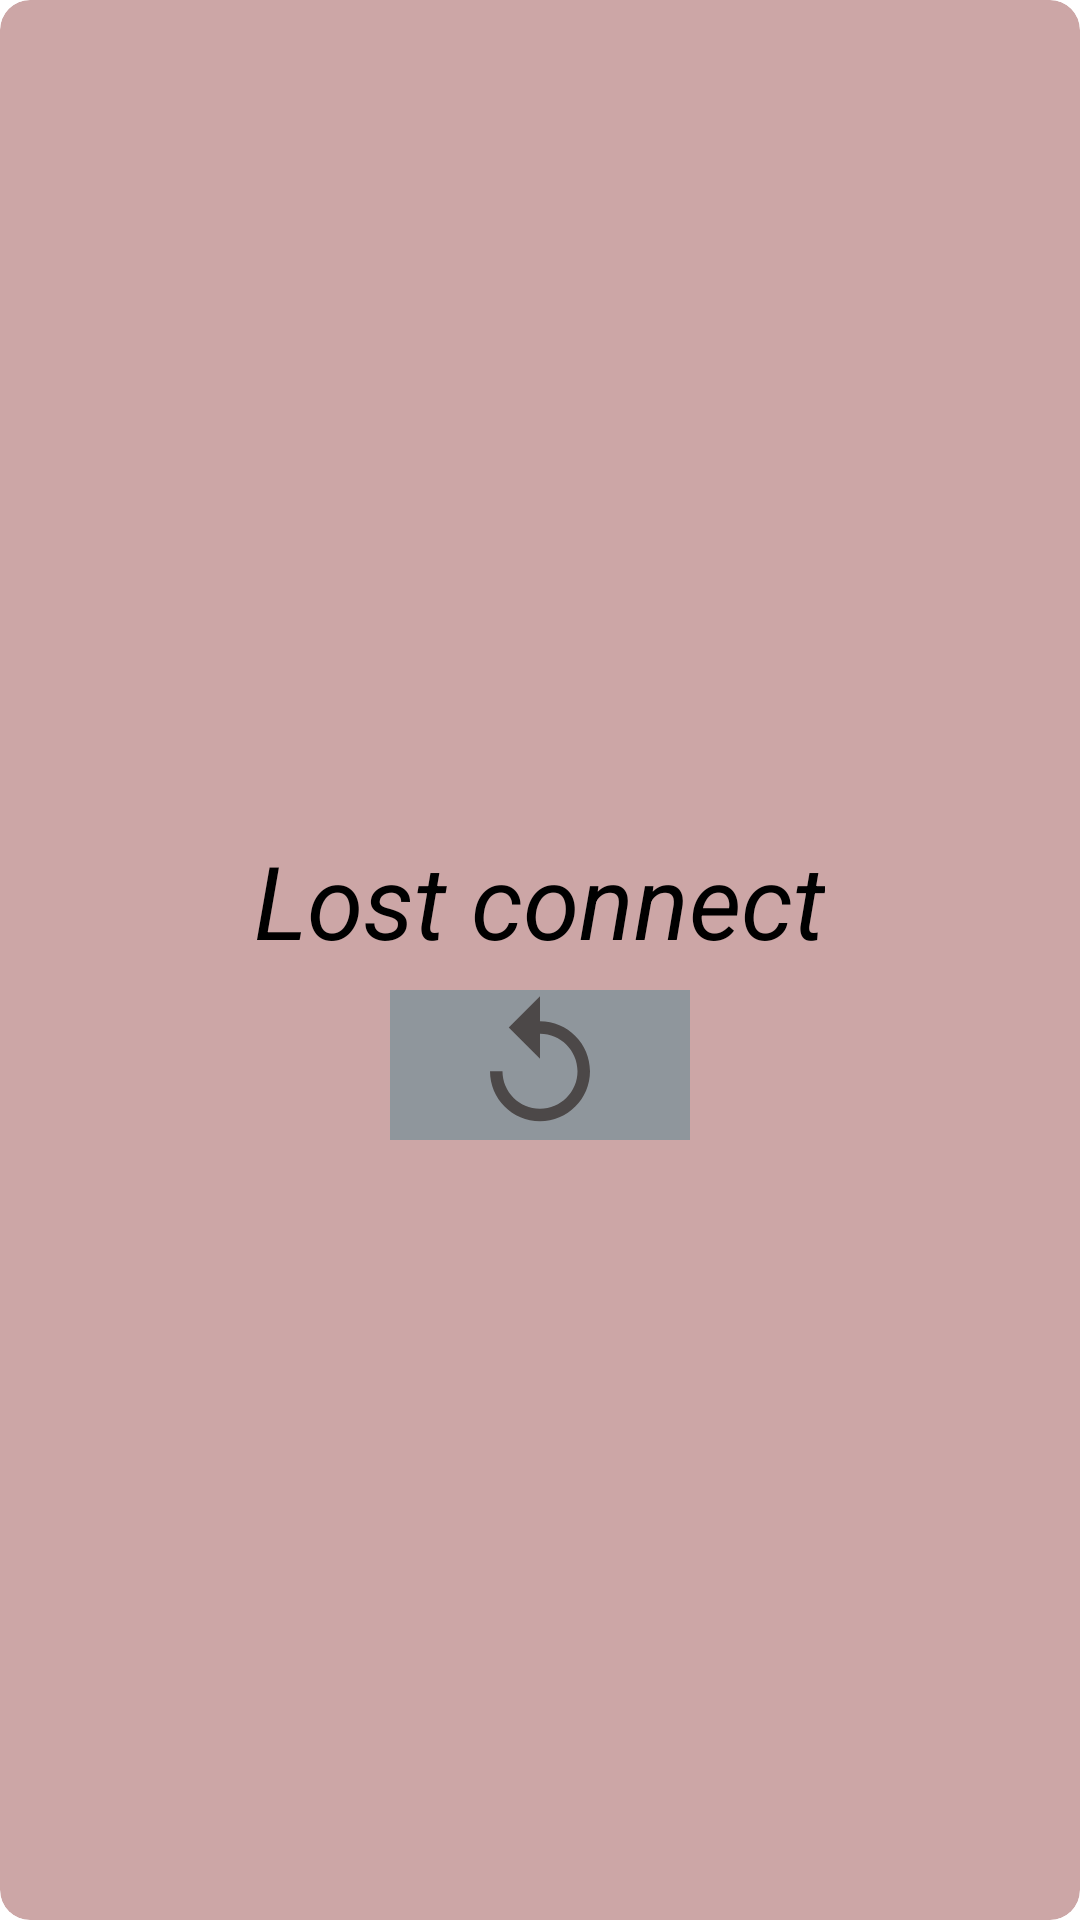

Screen size 1080px x 1920px. Icon name, then its box in pixels as (x1, y1, x2, y2):
replay: (390, 990, 690, 1140)
